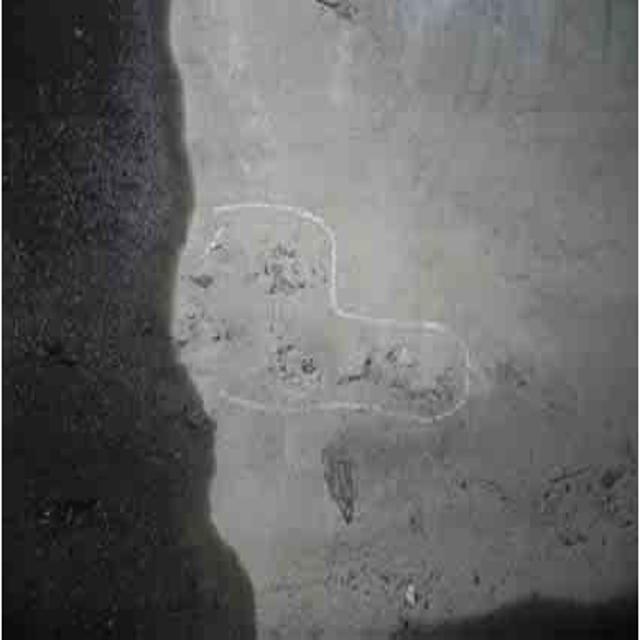spalling: (180, 216, 484, 421)
